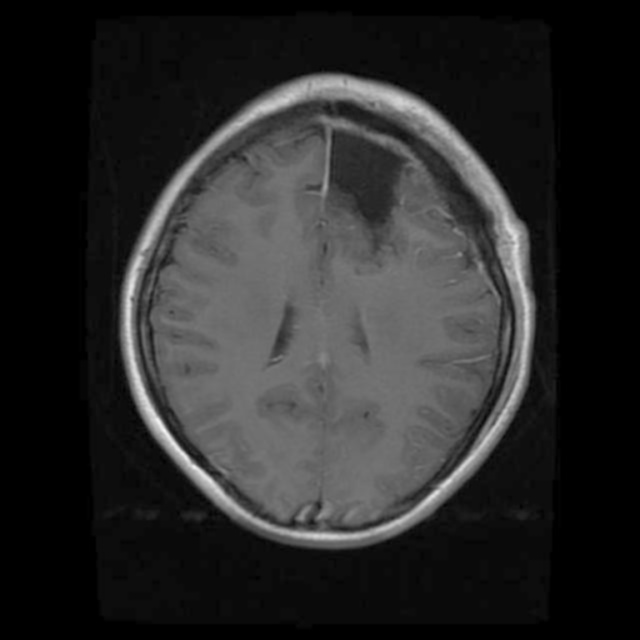pituitary tumor: (325, 140, 403, 240)
